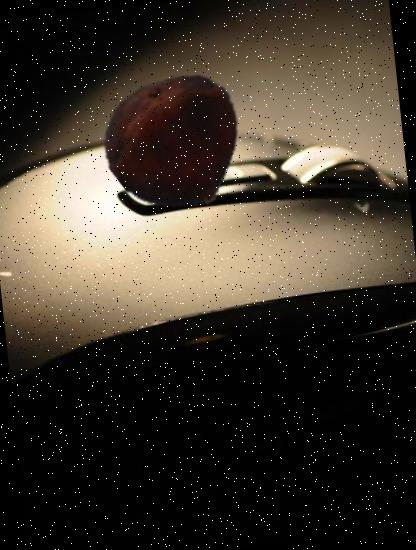Chestnut: (100, 66, 256, 222)
